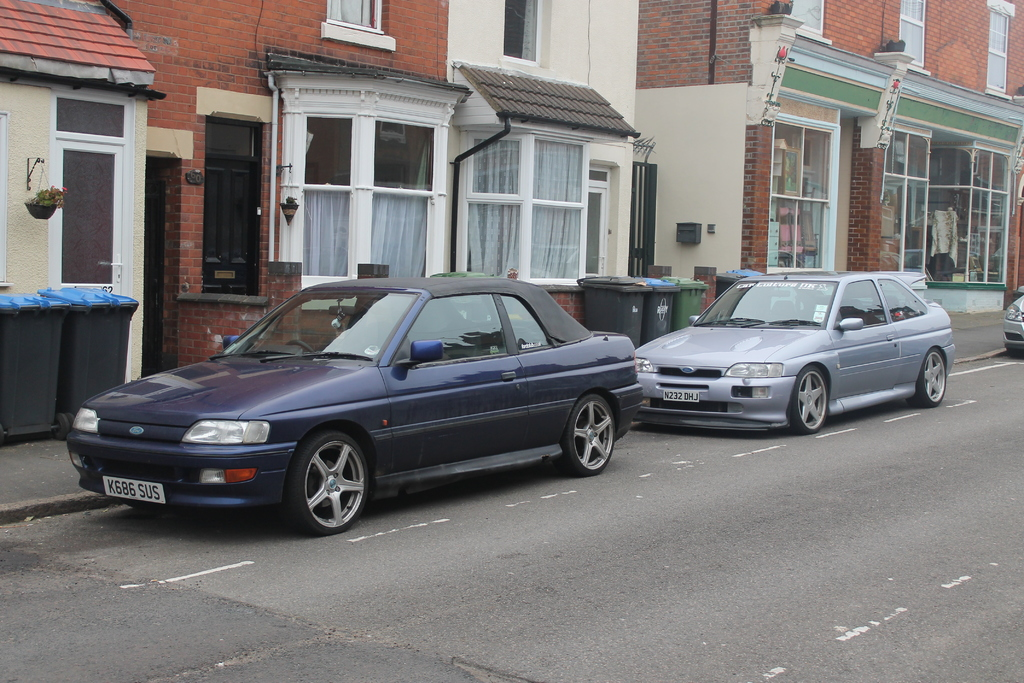Car: (47, 272, 667, 542), (634, 269, 957, 435), (1000, 283, 1023, 359)
